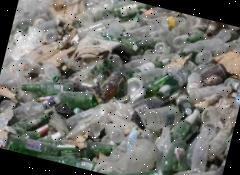glass: (9, 27, 240, 158)
